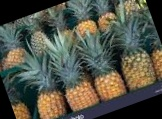Pineapple: (52, 37, 99, 111), (81, 32, 128, 100), (118, 7, 154, 94)
